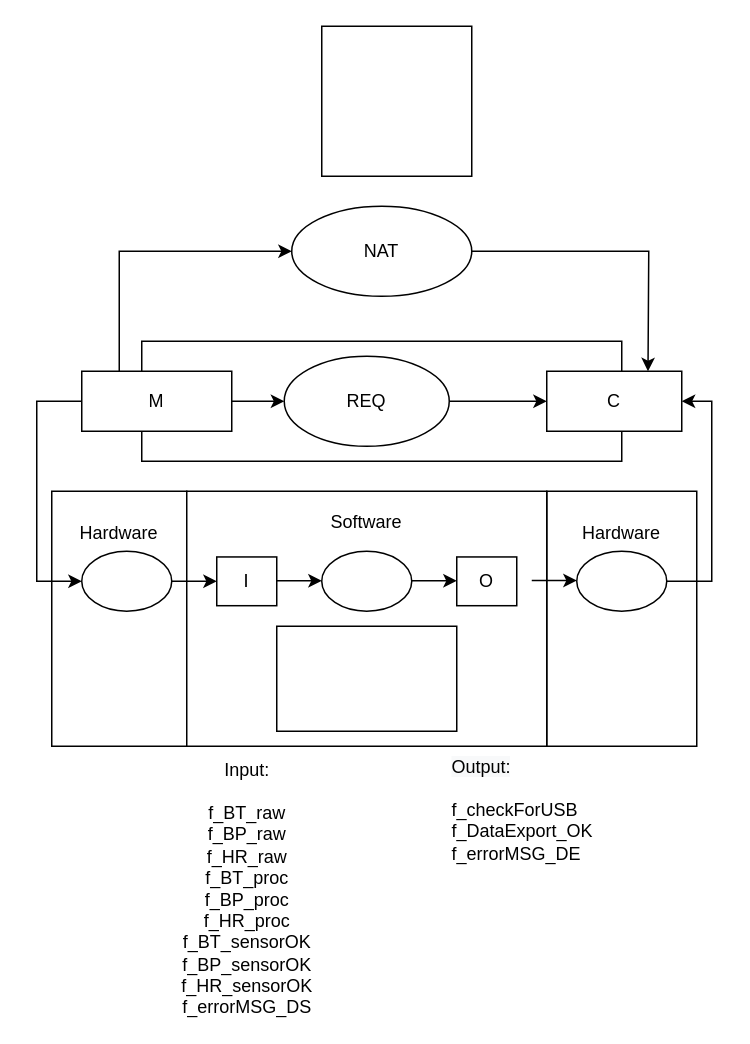
The diagram is 750 pixels wide and 1044 high, and some of its shapes have lost their labels. Each missing label, with the centre of its shape:
"checkForUSB() outputFile() checkExport()" goes at point 366,678.
"Exporting Data" goes at point 396,100.
"IN" goes at point 126,580.
"OUT" goes at point 621,580.
"SOF" goes at point 366,580.
